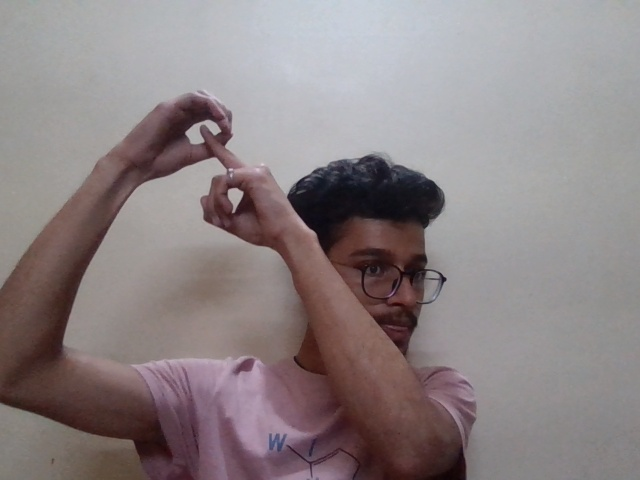Q: (92, 75, 316, 251)
